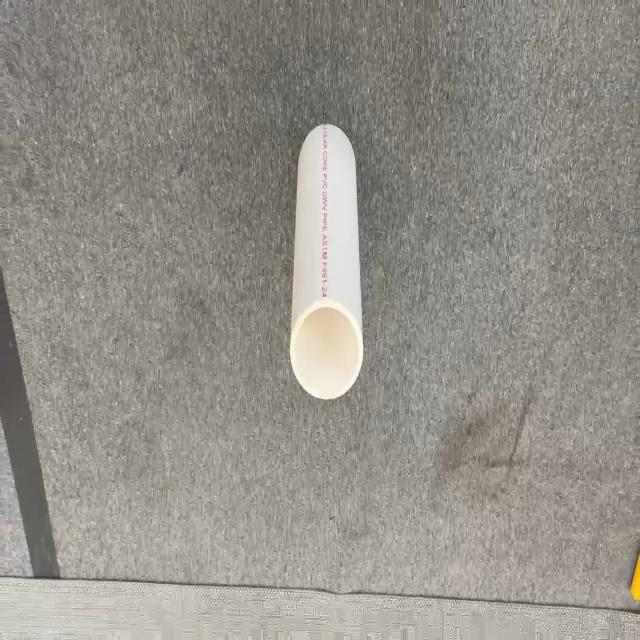coral: (288, 121, 364, 400)
